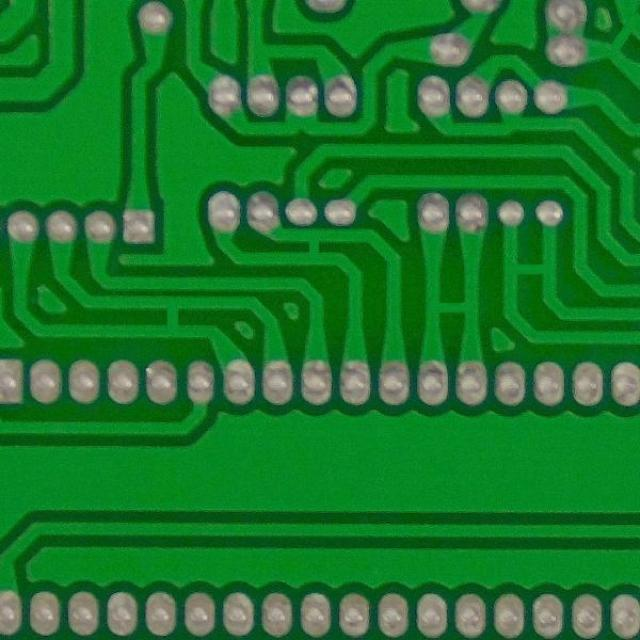short: (422, 289, 484, 333), (148, 294, 198, 342), (602, 2, 639, 66), (291, 224, 339, 272), (503, 252, 558, 288)
